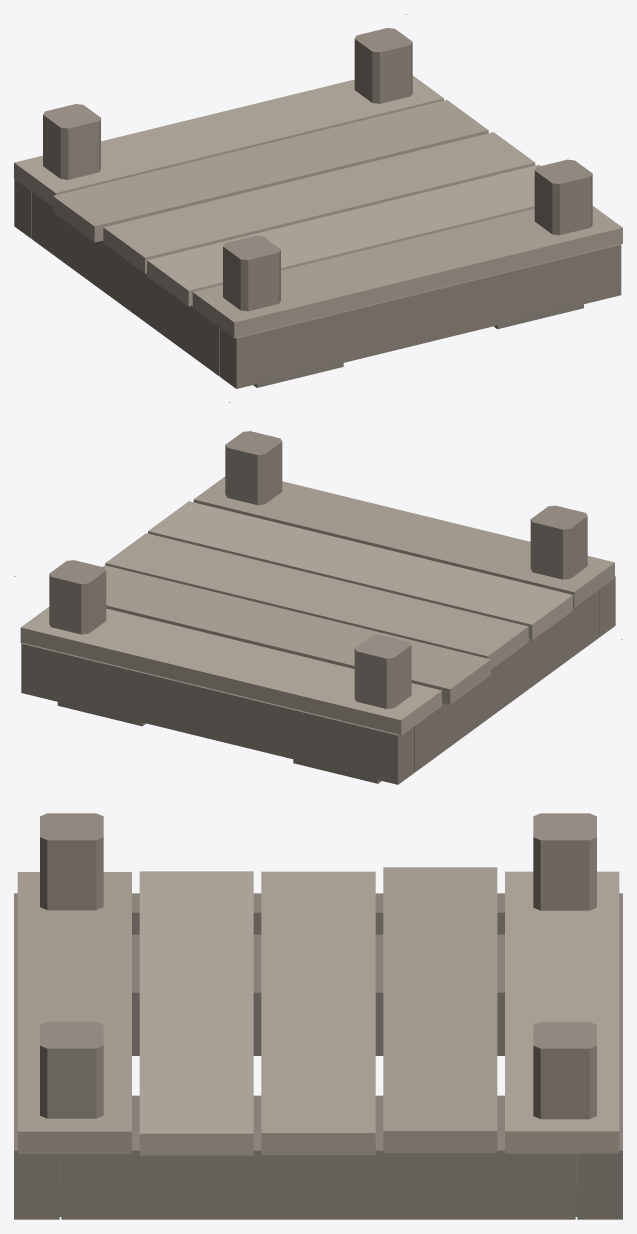
The model's file is MooringFloat_wood.glb.
The picture shows the model from 3 angles, top to bottom: view 1: azimuth 30°, elevation 25°; view 2: azimuth 150°, elevation 25°; view 3: azimuth 270°, elevation 25°; orthographic projection. The views are drawn at different scales.
Parts seen in each view (by area): view 1: MooringFloat_wood; view 2: MooringFloat_wood; view 3: MooringFloat_wood.
Part boxes in pixels (box(x1,y1,x2,y2)): MooringFloat_wood: box(14, 14, 622, 402); MooringFloat_wood: box(14, 431, 622, 784); MooringFloat_wood: box(14, 813, 622, 1219).
Bounding box in the file's own units: 4.15 × 1.28 × 4.
